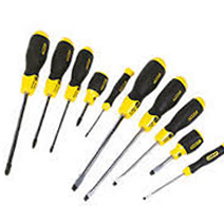Screwdriver: (15, 26, 224, 202)
